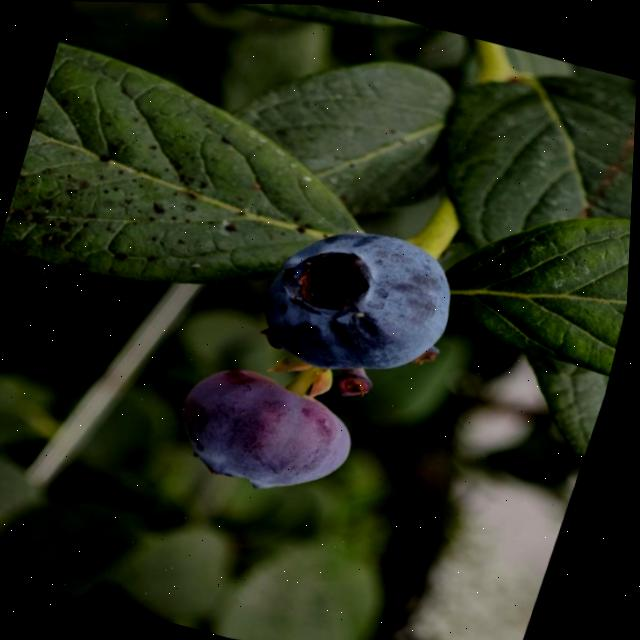RipeBlueBerry: (248, 201, 483, 401), (165, 346, 384, 518)
